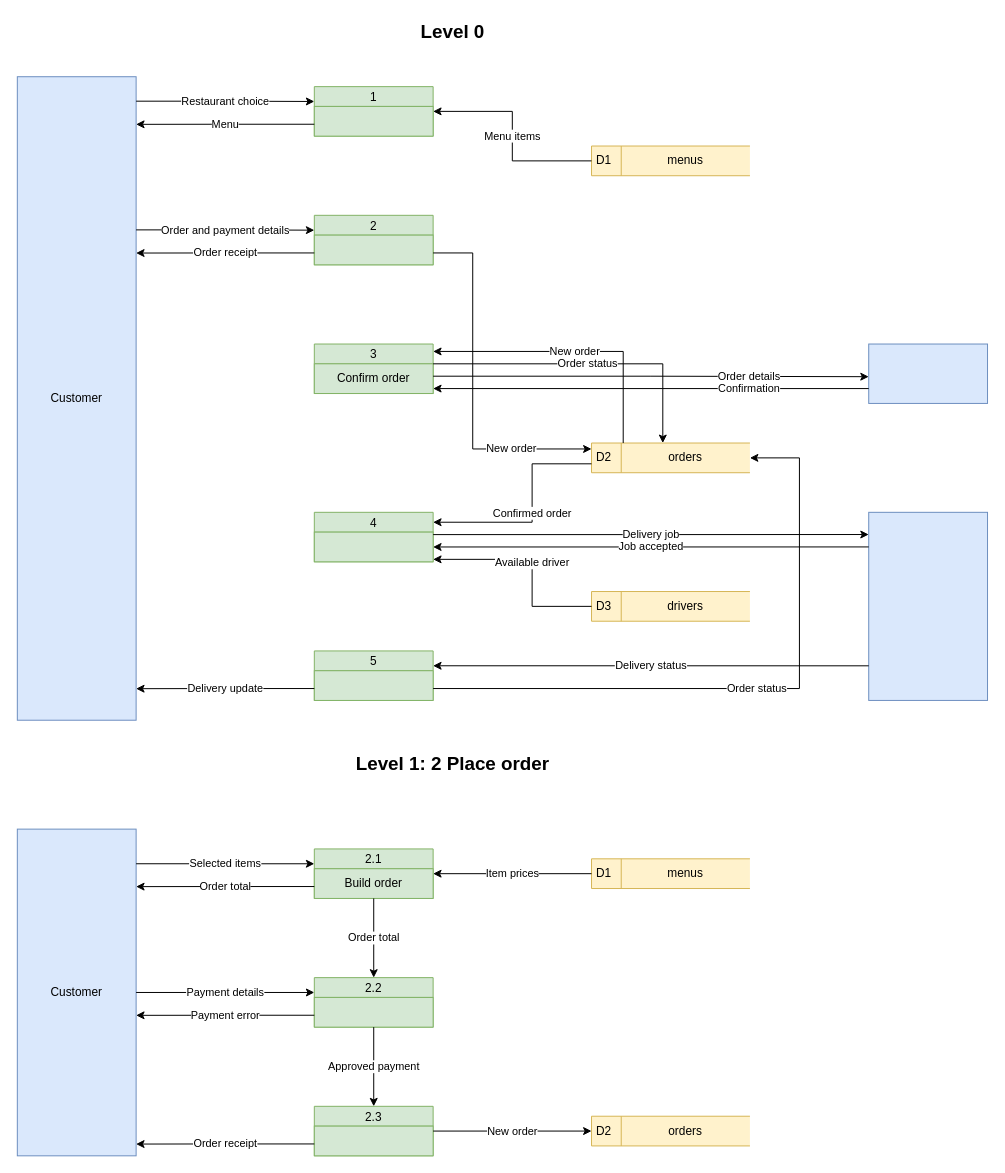
Some shapes in this 1005 by 1173 pixel diagram are drawn without their labels. The shapes that lost their labels are listed below. From the top down, each one's centre as x and y in pixels, then its label:
At point 373,120: "Browse menus".
At point 373,249: "Place order".
At point 928,373: "Restaurant".
At point 373,546: "Assign delivery".
At point 928,605: "Driver".
At point 373,685: "Update status".
At point 373,1011: "Process payment".
At point 373,1140: "Record order".
